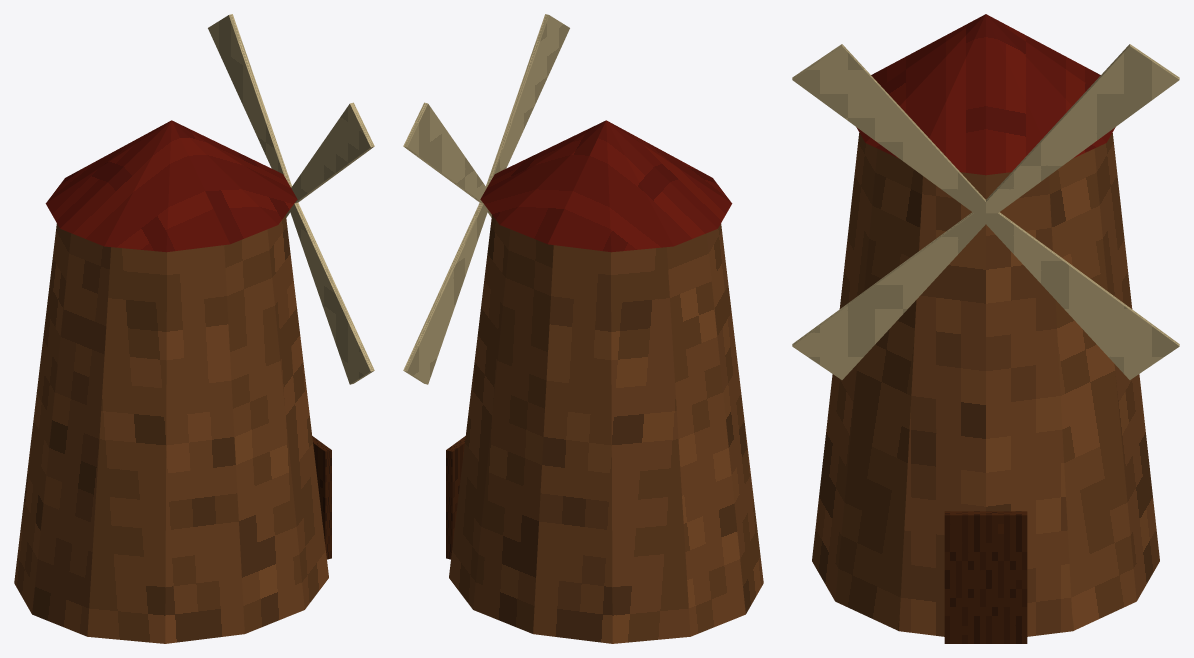
The model's file is molino.glb.
The picture shows the model from 3 angles, left to right: view 1: azimuth 30°, elevation 25°; view 2: azimuth 150°, elevation 25°; view 3: azimuth 270°, elevation 25°; orthographic projection. The views are drawn at different scales.
Parts seen in each view (by area): view 1: torre, tejado, aspas, puerta; view 2: torre, tejado, aspas, puerta; view 3: torre, aspas, tejado, puerta.
Boxes of the visible parts, bbox=[...] form: torre: bbox=[14, 215, 328, 643]; tejado: bbox=[45, 120, 297, 252]; aspas: bbox=[208, 14, 374, 384]; puerta: bbox=[312, 436, 331, 559]; torre: bbox=[449, 215, 763, 643]; tejado: bbox=[480, 120, 732, 252]; aspas: bbox=[403, 14, 569, 384]; puerta: bbox=[446, 436, 465, 559]; torre: bbox=[812, 133, 1159, 636]; aspas: bbox=[792, 44, 1179, 379]; tejado: bbox=[856, 14, 1115, 175]; puerta: bbox=[944, 511, 1027, 643].
Bounding box in the file's own units: 6 × 10 × 6.
Materials: 1 (1 with a texture image).
